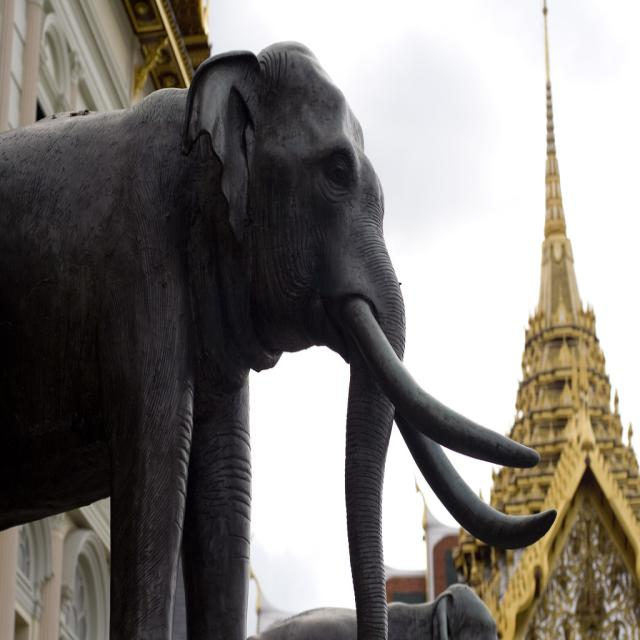Elephant: (0, 38, 556, 639), (246, 582, 498, 639)
